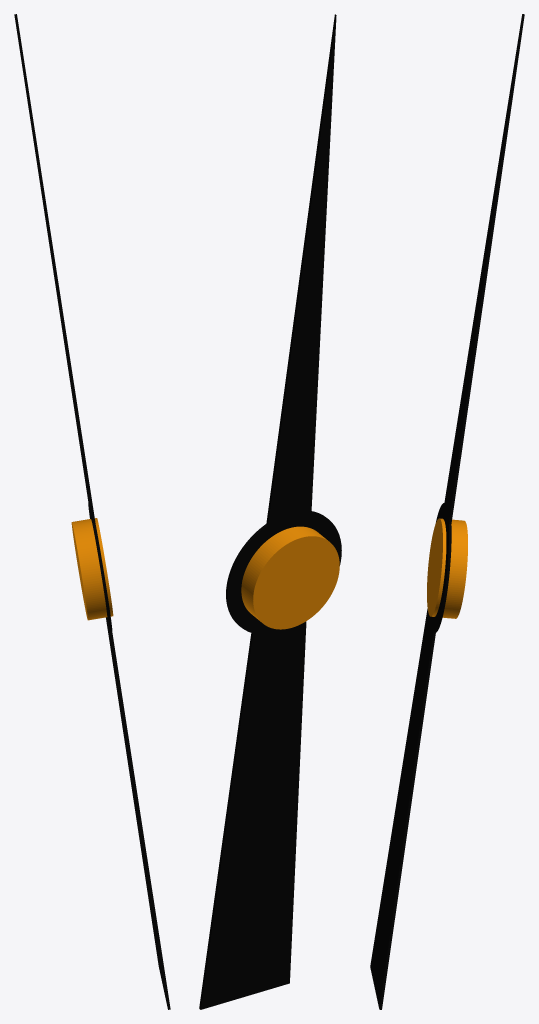
File: needle.fbx
3 views of the same model, side by side, from view 1: azimuth 90°, elevation 25°; view 2: azimuth 210°, elevation 25°; view 3: azimuth 270°, elevation 25° (orthographic). The views are drawn at different scales.
Parts seen in each view (by area): view 1: needle, needlepin; view 2: needle, needlepin; view 3: needle, needlepin.
Part boxes in pixels (x1=…): needle: x1=14, y1=14, x2=170, y2=1009; needlepin: x1=71, y1=518, x2=113, y2=620; needle: x1=199, y1=14, x2=341, y2=1009; needlepin: x1=241, y1=526, x2=339, y2=629; needle: x1=370, y1=14, x2=524, y2=1009; needlepin: x1=427, y1=518, x2=467, y2=618.
Bounding box in the file's own units: 2.66 × 21.89 × 3.17.
